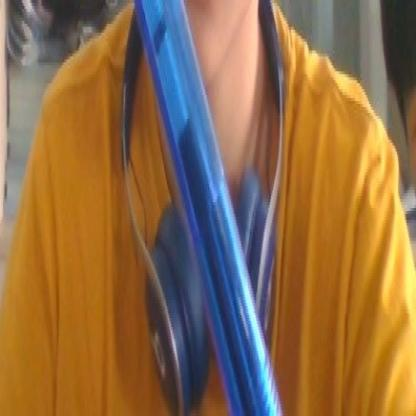not trash: (131, 0, 282, 416)
